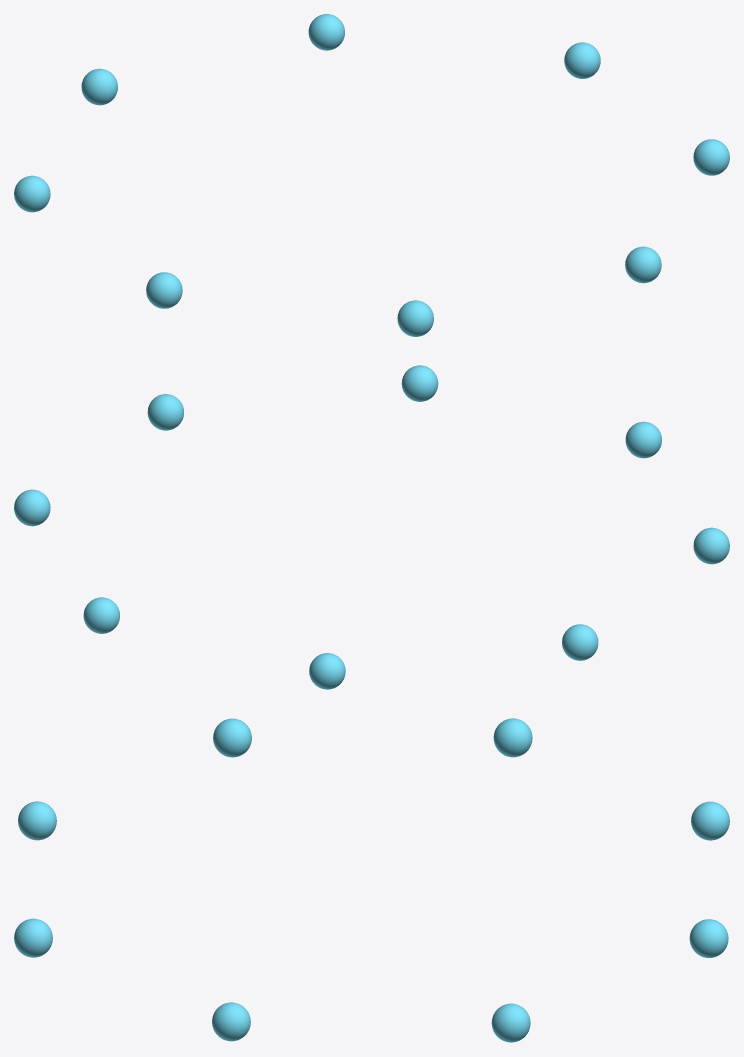
The picture shows the model from 3 angles, top to bottom: view 1: azimuth 30°, elevation 25°; view 2: azimuth 150°, elevation 25°; view 3: azimuth 270°, elevation 25°; orthographic projection. The views are drawn at different scales.
Parts seen in each view (by area): view 1: Sphere049; view 2: Sphere049; view 3: Sphere049.
Boxes of the visible parts, box(x1,y1,x2,y2) form: Sphere049: box(14, 14, 729, 336); Sphere049: box(14, 365, 729, 689); Sphere049: box(14, 718, 729, 1042).
Size of the model in its own units: 150 by 8.22 by 151.
